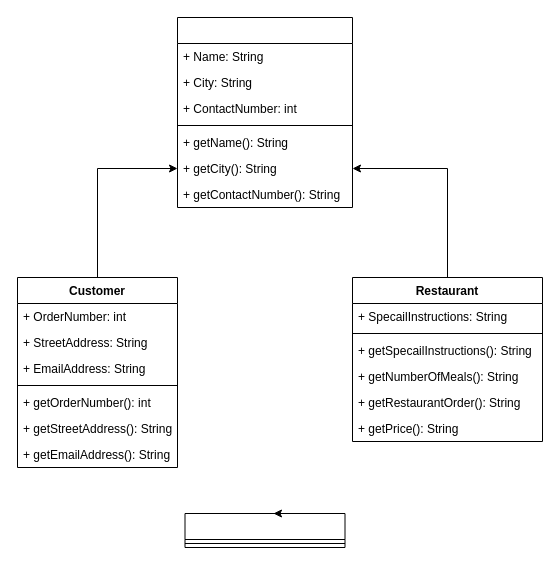
Some shapes in this 560 by 565 pixel diagram are drawn without their labels. Each missing label, with the box of its shape:
ContactDetails: (176, 16, 352, 208)
Main: (184, 512, 345, 548)
